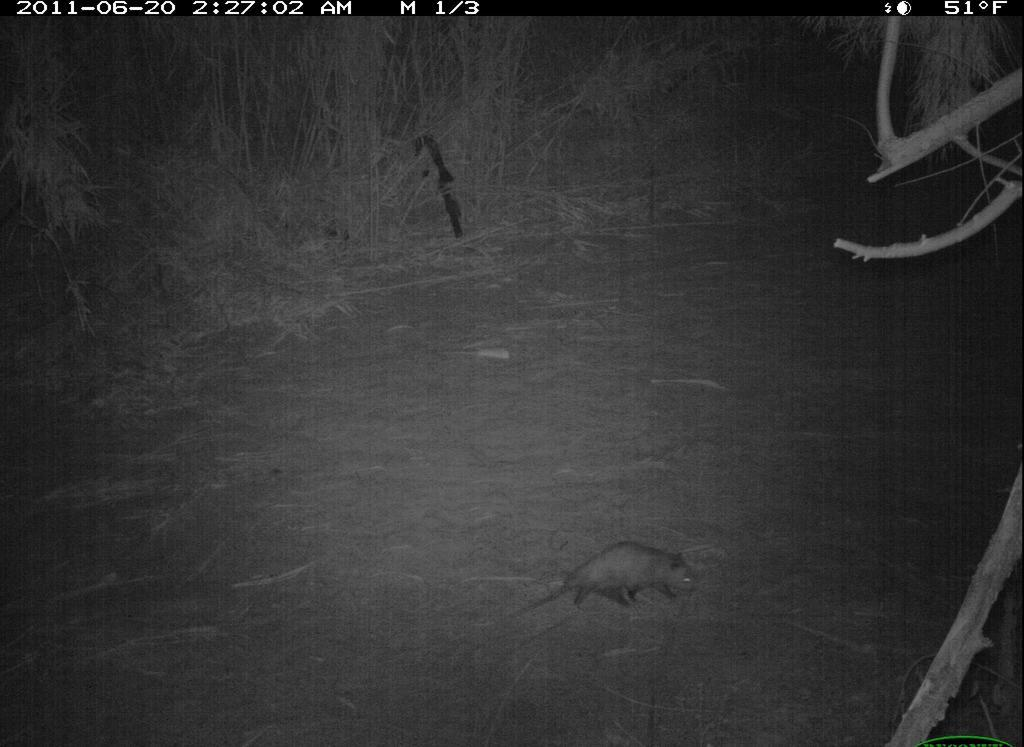opossum: (509, 533, 706, 623)
